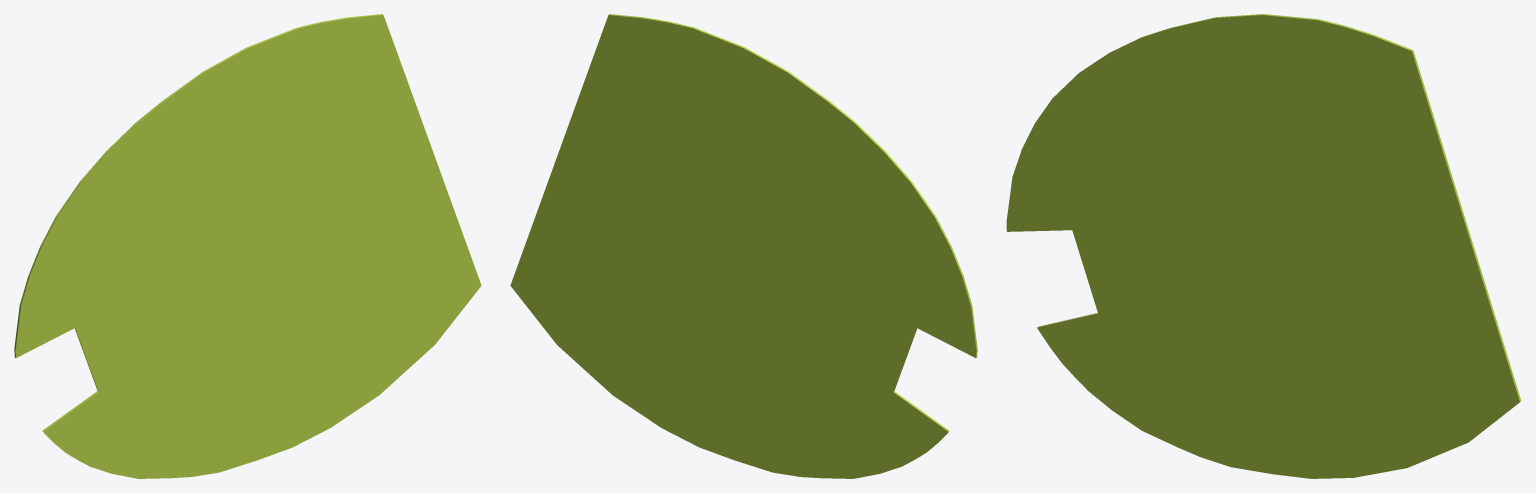
3 views of the same model, side by side, from view 1: azimuth 30°, elevation 25°; view 2: azimuth 150°, elevation 25°; view 3: azimuth 330°, elevation 25° (orthographic). The views are drawn at different scales.
Visible parts, largest first — view 1: osm-way27917482-F0; view 2: osm-way27917482-F0; view 3: osm-way27917482-F0.
Boxes of the visible parts, left/top/right/bottom form: osm-way27917482-F0: left=14, top=14, right=481, bottom=478; osm-way27917482-F0: left=510, top=14, right=977, bottom=478; osm-way27917482-F0: left=1006, top=14, right=1521, bottom=478.
Size of the model in its own units: 30.2 by 26.31 by 0.15.
